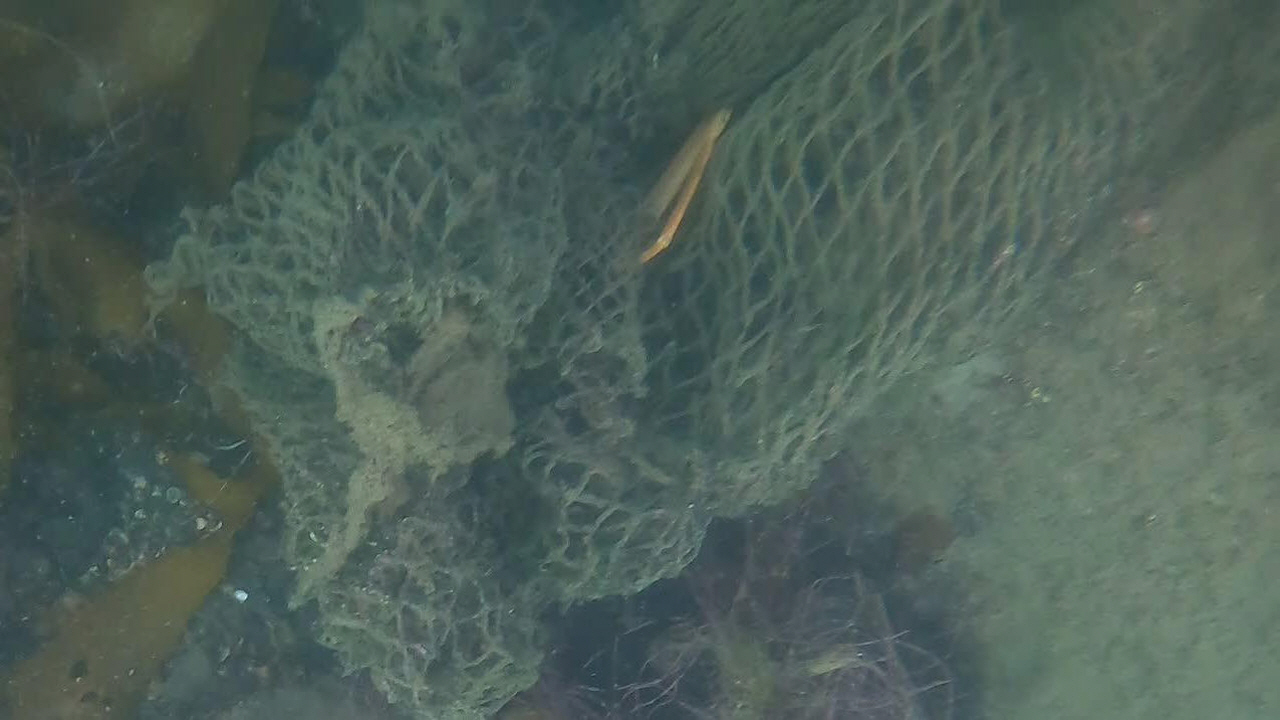fish net: (153, 0, 1162, 720)
